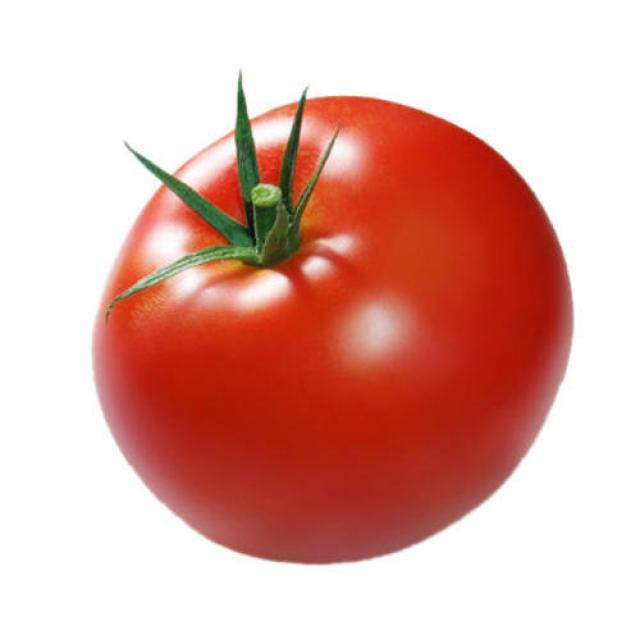kirmizi: (92, 76, 580, 566)
